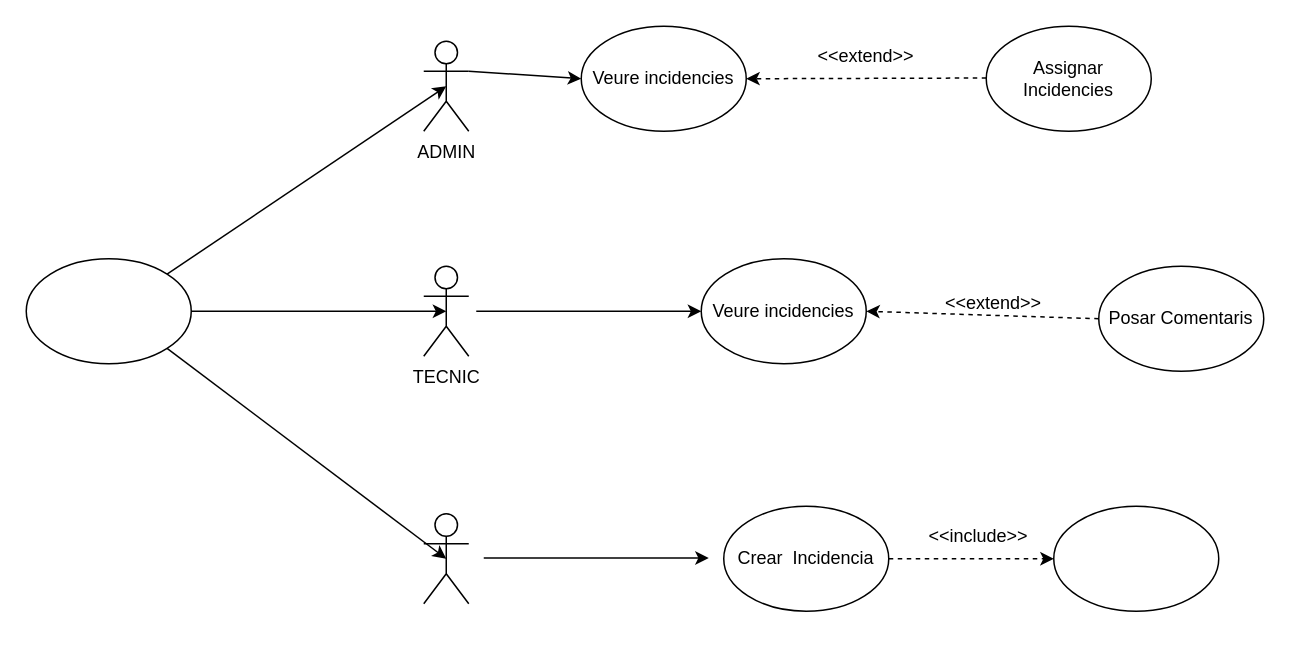
The diagram is 1290 pixels wide and 662 high, and some of its shapes have lost their labels. Here are the shapes that lost their labels. From the top down, the centre of each, then its label:
At (108,310): "Buscar Incendia".
At (445,558): "PROFESOR".
At (1135,558): "Mostrar Id Incidencia".
